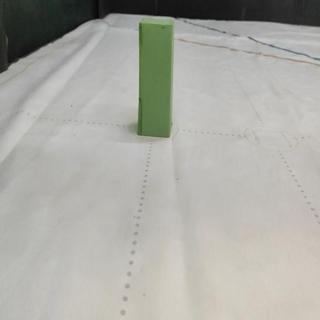greenbox: (136, 15, 174, 138)
